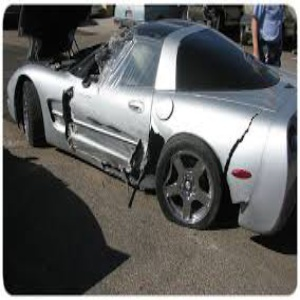door: (51, 92, 147, 184)
